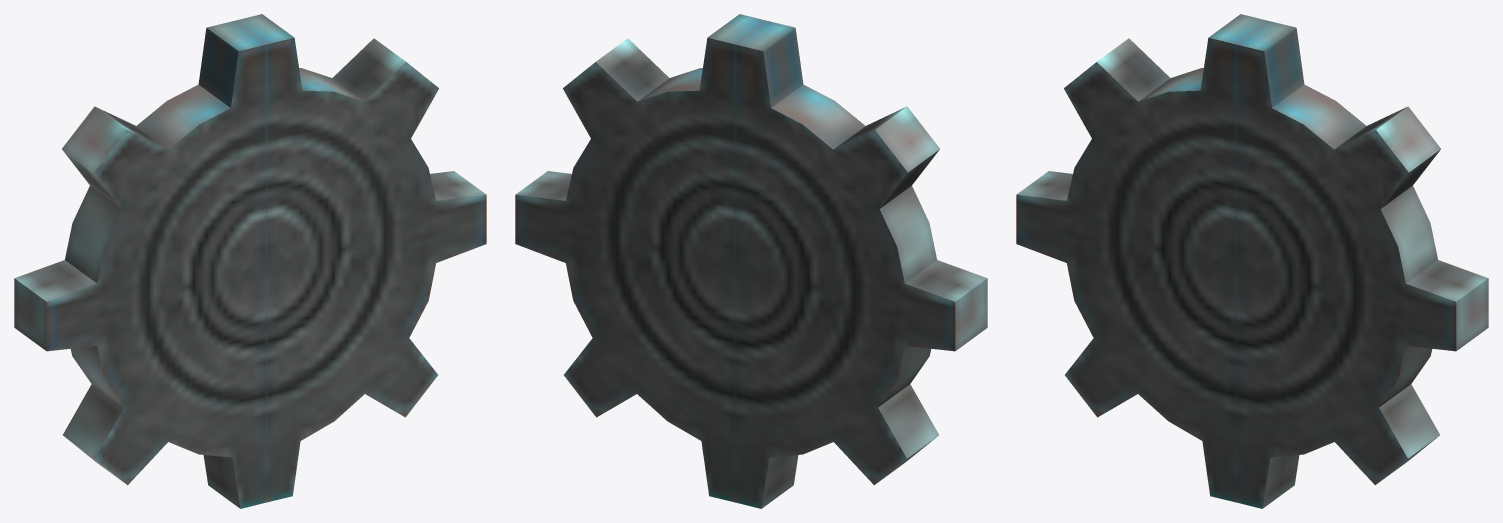
The model's file is FB_ShenLou_06.FBX.
3 views of the same model, side by side, from view 1: azimuth 30°, elevation 25°; view 2: azimuth 150°, elevation 25°; view 3: azimuth 330°, elevation 25° (orthographic).
Visible parts, largest first — view 1: Line05; view 2: Line05; view 3: Line05.
Boxes of the visible parts, <box> form: Line05: <box>14,14,486,508</box>; Line05: <box>515,14,987,508</box>; Line05: <box>1016,14,1488,508</box>.
Size of the model in its own units: 5.72 by 5.69 by 0.7285.
